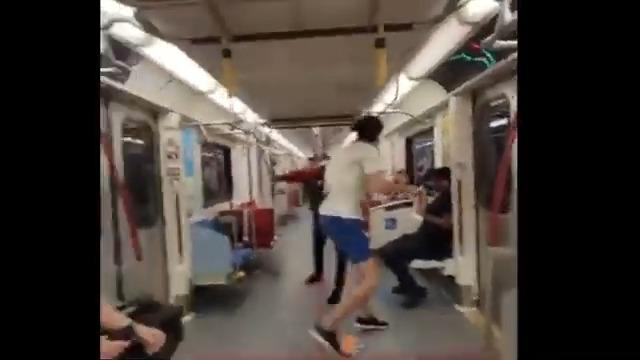non-violence: (379, 167, 453, 310), (379, 169, 407, 205)
violence: (271, 118, 417, 355)
